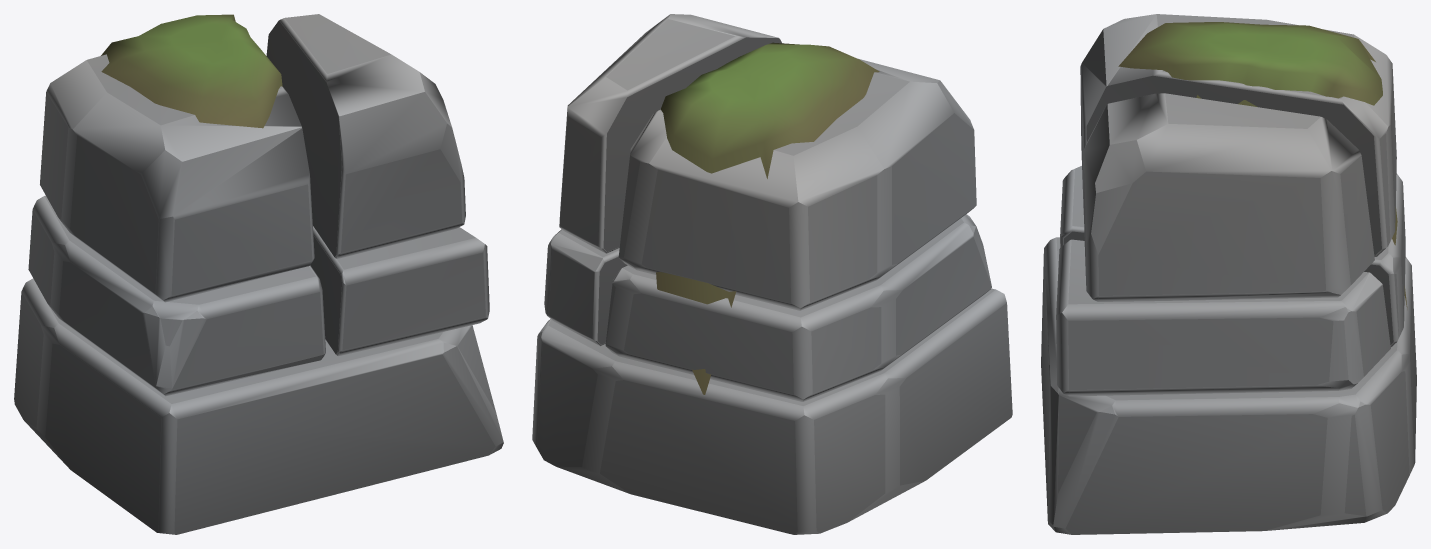
The model's file is ground_quarry_face_a.glb.
3 views of the same model, side by side, from view 1: azimuth 30°, elevation 25°; view 2: azimuth 150°, elevation 25°; view 3: azimuth 270°, elevation 25° (orthographic). The views are drawn at different scales.
Parts seen in each view (by area): view 1: ground_quarry_face_a_LOD0; view 2: ground_quarry_face_a_LOD0; view 3: ground_quarry_face_a_LOD0.
Part boxes in pixels (<box>): ground_quarry_face_a_LOD0: <box>14,14,503,534</box>; ground_quarry_face_a_LOD0: <box>532,14,1012,534</box>; ground_quarry_face_a_LOD0: <box>1041,14,1416,534</box>.
Size of what is drawn, in the model's own units: 1.02 by 1.06 by 0.9156.
